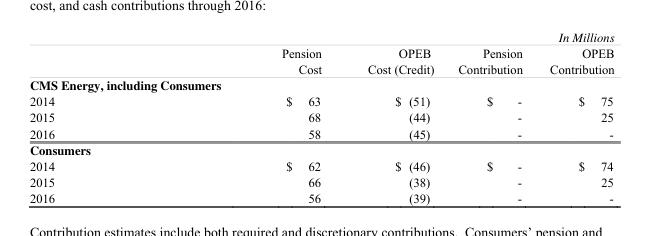table: (28, 28, 613, 204)
table column: (167, 28, 344, 204), (28, 28, 167, 204), (344, 28, 445, 204), (445, 28, 535, 204), (535, 28, 613, 204)
table column header: (28, 28, 613, 76)
table projected row header: (28, 140, 613, 158), (28, 76, 613, 93)
table row: (28, 28, 613, 76), (28, 140, 613, 158), (28, 76, 613, 93), (28, 93, 613, 109), (28, 109, 613, 125), (28, 173, 613, 189), (28, 125, 613, 140), (28, 158, 613, 173), (28, 189, 613, 204)
